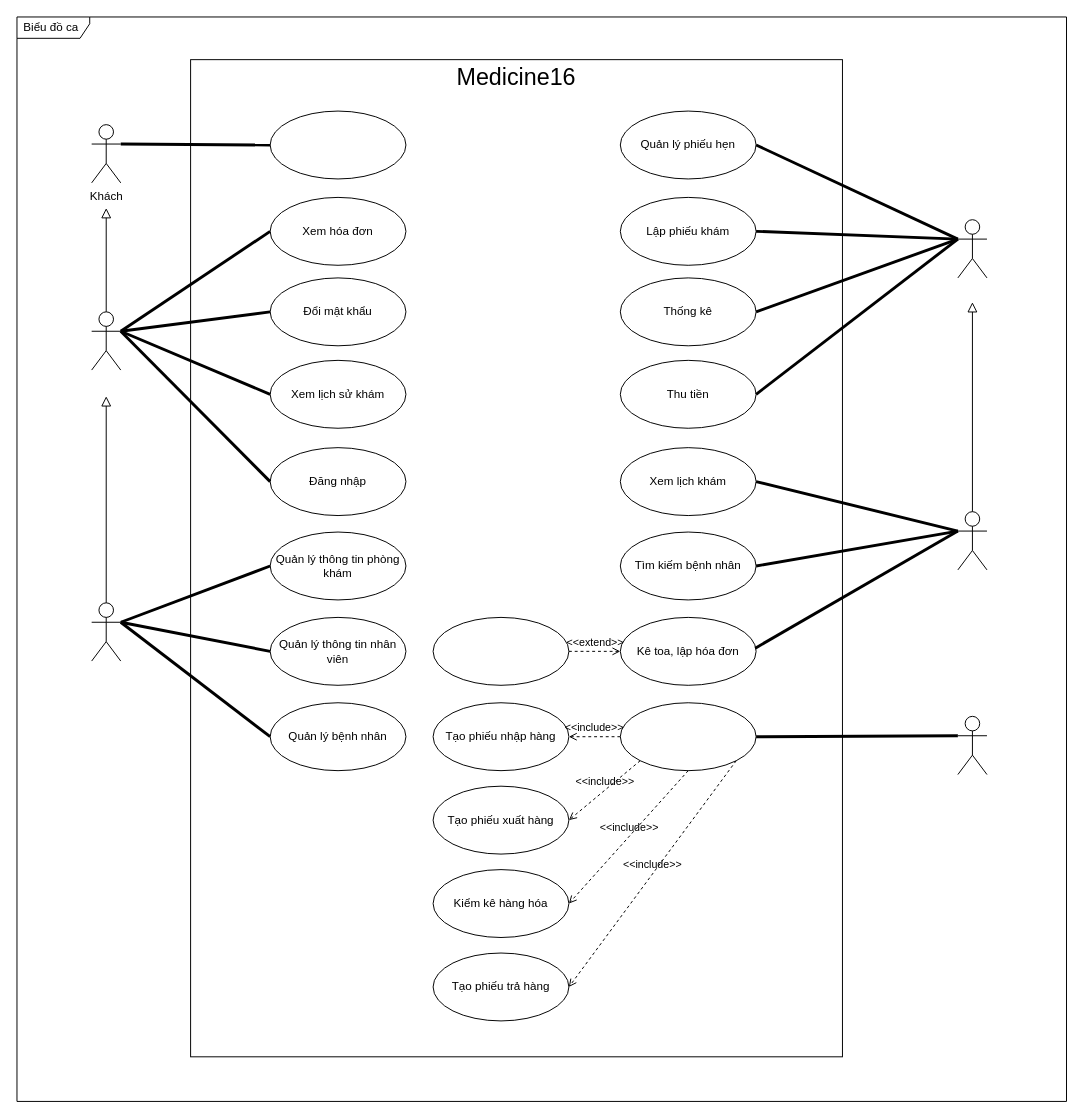
Some shapes in this 1083 by 1118 pixel diagram are drawn without their labels. Each missing label, with the centre of its shape:
"Bác sĩ" goes at pixel 972 540.
"Bệnh nhân" goes at pixel 106 340.
"Dược sĩ" goes at pixel 972 745.
"In hóa đơn" goes at pixel 500 650.
"Quản lý kho" goes at pixel 687 736.
"Quản trị viên" goes at pixel 106 631.
"Xem thông tin phòng khám" goes at pixel 337 144.
"Y tá" goes at pixel 972 248.
